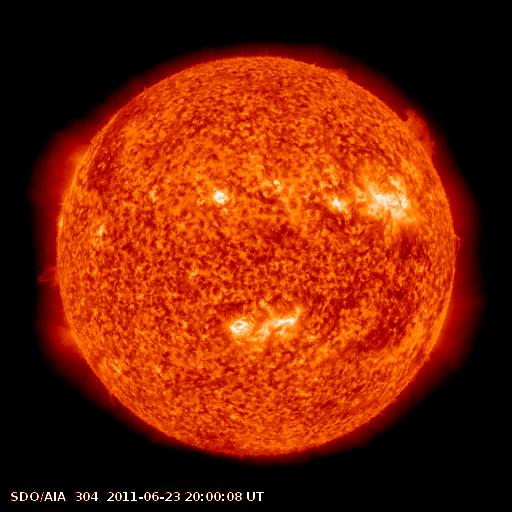prominence: (397, 99, 447, 166), (34, 256, 74, 294), (326, 56, 356, 82)
